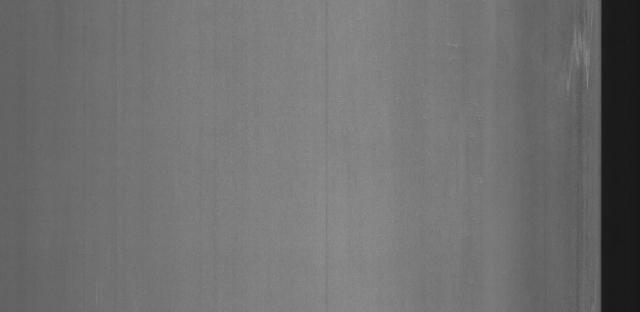silk_spot: (551, 25, 599, 101)
